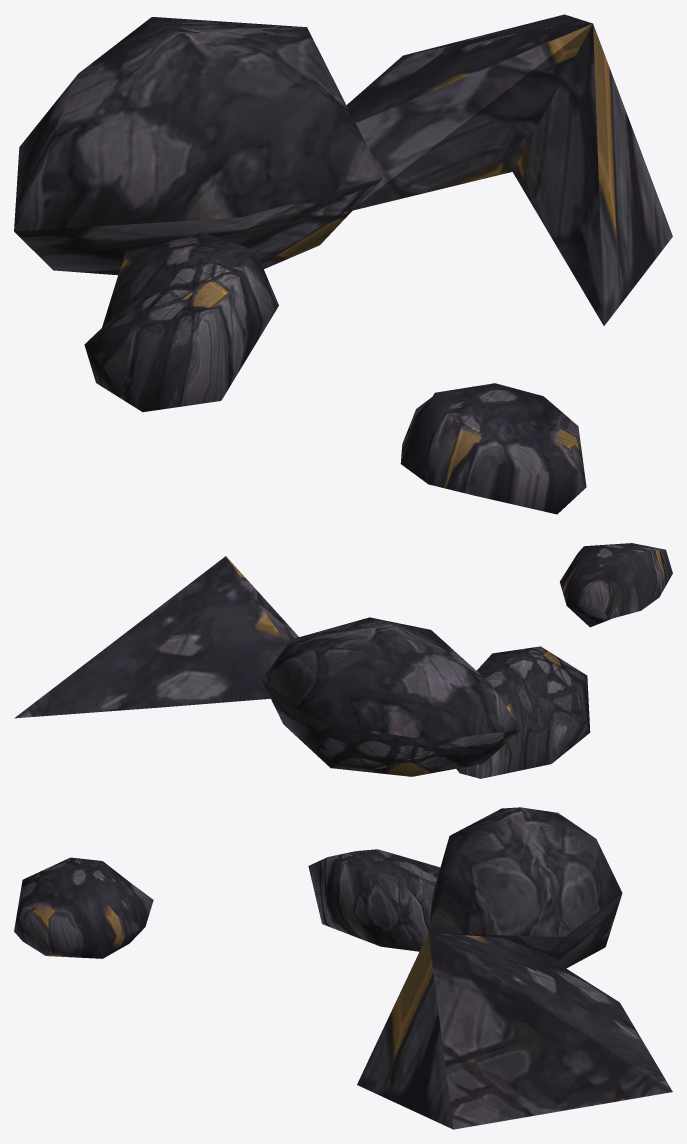
The model's file is BOSS_Stone_04.FBX.
3 renders of one model, top to bottom at view 1: azimuth 30°, elevation 25°; view 2: azimuth 150°, elevation 25°; view 3: azimuth 270°, elevation 25°, orthographic. The views are drawn at different scales.
Parts seen in each view (by area): view 1: BOSS_Stone_04; view 2: BOSS_Stone_04; view 3: BOSS_Stone_04.
Part boxes in pixels (<box>): BOSS_Stone_04: <box>14,14,672,514</box>; BOSS_Stone_04: <box>14,543,672,778</box>; BOSS_Stone_04: <box>14,807,672,1129</box>.
Bounding box in the file's own units: 1.94 × 0.7239 × 2.39.
